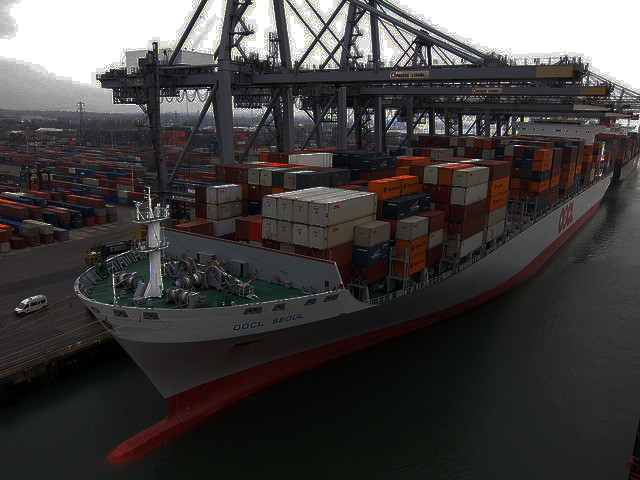container_ship: (75, 115, 617, 468)
